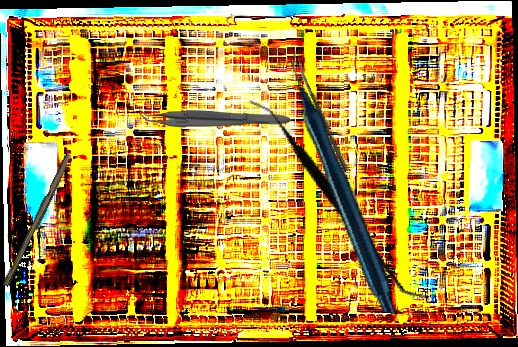Handpiece: (232, 49, 457, 316)
Scalpel Handle: (2, 152, 74, 289)
Spatula Surgical: (205, 96, 471, 302)
Surgical Spoon: (294, 58, 350, 173)
Tissue Forceps: (138, 105, 291, 129)
